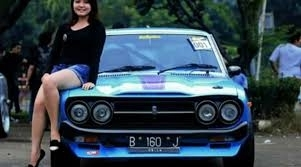plate: (129, 135, 181, 152)
